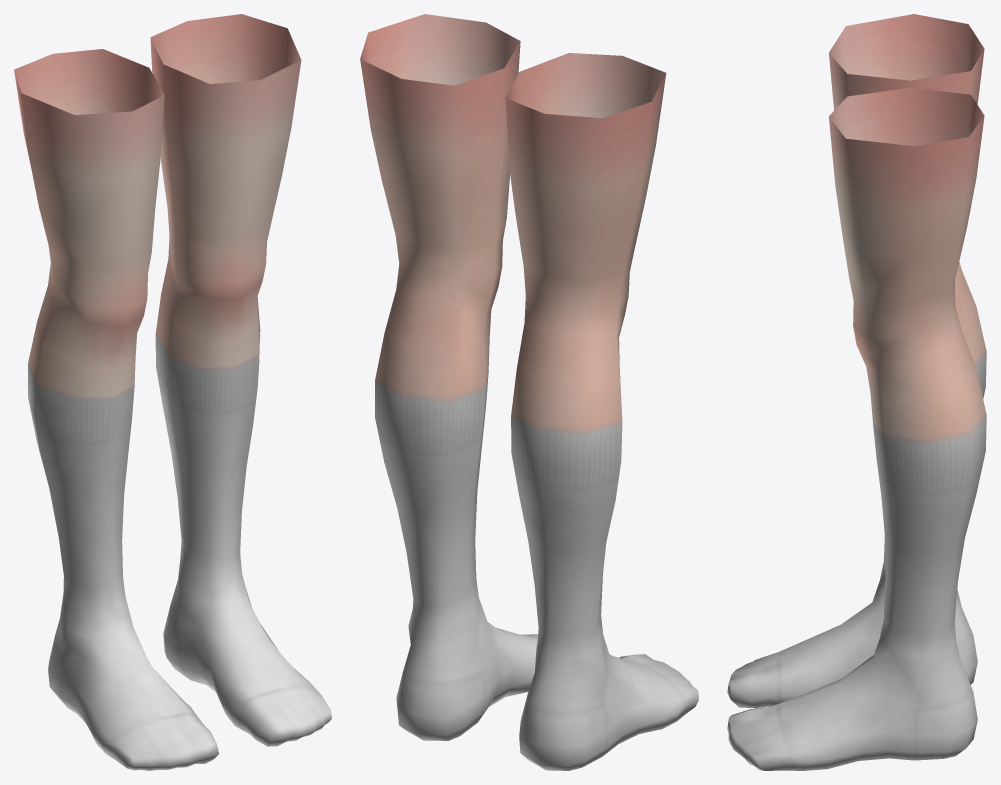
The model's file is p0_lgw1005_00_lgw00.gltf.
3 views of the same model, side by side, from view 1: azimuth 30°, elevation 25°; view 2: azimuth 150°, elevation 25°; view 3: azimuth 270°, elevation 25° (orthographic). The views are drawn at different scales.
Parts seen in each view (by area): view 1: lgw00_legs02_mesh_shape:legs_skin, lgw00_legs00_mesh_shape:legs, lgw00_legs01_mesh_shape:legs_skin, lgw00_legs01_mesh_shape:legs; view 2: lgw00_legs02_mesh_shape:legs_skin, lgw00_legs01_mesh_shape:legs_skin, lgw00_legs00_mesh_shape:legs, lgw00_legs01_mesh_shape:legs; view 3: lgw00_legs00_mesh_shape:legs, lgw00_legs02_mesh_shape:legs_skin, lgw00_legs01_mesh_shape:legs_skin, lgw00_legs01_mesh_shape:legs.
Boxes of the visible parts, left/top/right/bottom form: lgw00_legs02_mesh_shape:legs_skin: left=14, top=14, right=301, bottom=224; lgw00_legs00_mesh_shape:legs: left=48, top=500, right=331, bottom=770; lgw00_legs01_mesh_shape:legs_skin: left=28, top=156, right=281, bottom=399; lgw00_legs01_mesh_shape:legs: left=28, top=334, right=259, bottom=549; lgw00_legs02_mesh_shape:legs_skin: left=360, top=14, right=666, bottom=231; lgw00_legs01_mesh_shape:legs_skin: left=375, top=171, right=645, bottom=432; lgw00_legs00_mesh_shape:legs: left=396, top=541, right=698, bottom=770; lgw00_legs01_mesh_shape:legs: left=375, top=373, right=622, bottom=594; lgw00_legs00_mesh_shape:legs: left=727, top=536, right=977, bottom=770; lgw00_legs02_mesh_shape:legs_skin: left=829, top=14, right=984, bottom=256; lgw00_legs01_mesh_shape:legs_skin: left=842, top=228, right=986, bottom=442; lgw00_legs01_mesh_shape:legs: left=873, top=352, right=986, bottom=596.
Size of what is drawn, in the model's own units: 0.2758 by 0.6251 by 0.2287.
2 materials, 2 textured.
